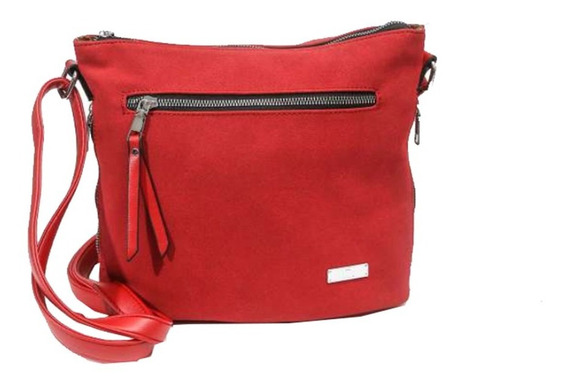cartera: (25, 18, 440, 361)
